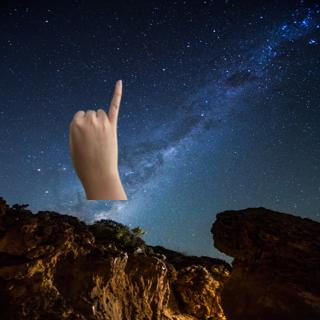Fine: (64, 70, 131, 192)
